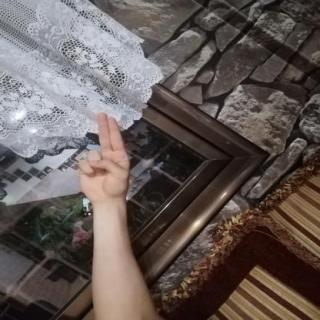TA: (70, 107, 140, 207)
